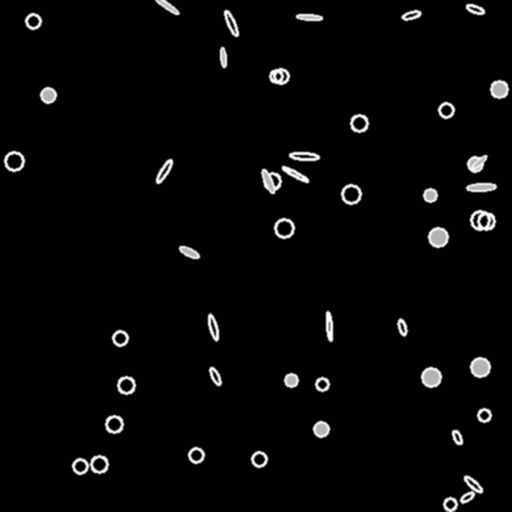pseudomonas: (281, 165, 309, 183), (155, 158, 173, 184), (462, 474, 484, 494), (223, 10, 239, 36), (260, 168, 276, 194), (153, 0, 179, 15), (206, 314, 220, 340), (470, 154, 488, 170), (179, 245, 199, 259), (208, 366, 222, 386), (466, 183, 496, 191), (465, 3, 485, 15), (325, 311, 333, 341), (459, 490, 475, 504), (290, 152, 318, 160), (396, 318, 408, 336), (401, 10, 421, 20), (451, 429, 463, 445), (296, 14, 322, 20), (220, 47, 226, 67)
synechocystis: (471, 211, 489, 229), (422, 368, 440, 386), (429, 228, 447, 246), (342, 185, 360, 203), (275, 219, 293, 237), (5, 152, 23, 170), (471, 358, 489, 376), (491, 81, 507, 97), (118, 377, 134, 393), (478, 213, 494, 229), (264, 173, 280, 189), (351, 115, 367, 131), (106, 416, 122, 432), (91, 456, 107, 472), (314, 422, 328, 436), (73, 459, 87, 473), (41, 88, 55, 102), (274, 69, 288, 83), (113, 331, 127, 345), (189, 448, 203, 462), (439, 103, 453, 117), (468, 157, 482, 171), (26, 14, 40, 28), (252, 452, 266, 466), (478, 409, 490, 421), (444, 498, 456, 510), (316, 378, 328, 390), (270, 70, 282, 82), (285, 374, 297, 386), (424, 189, 436, 201)
